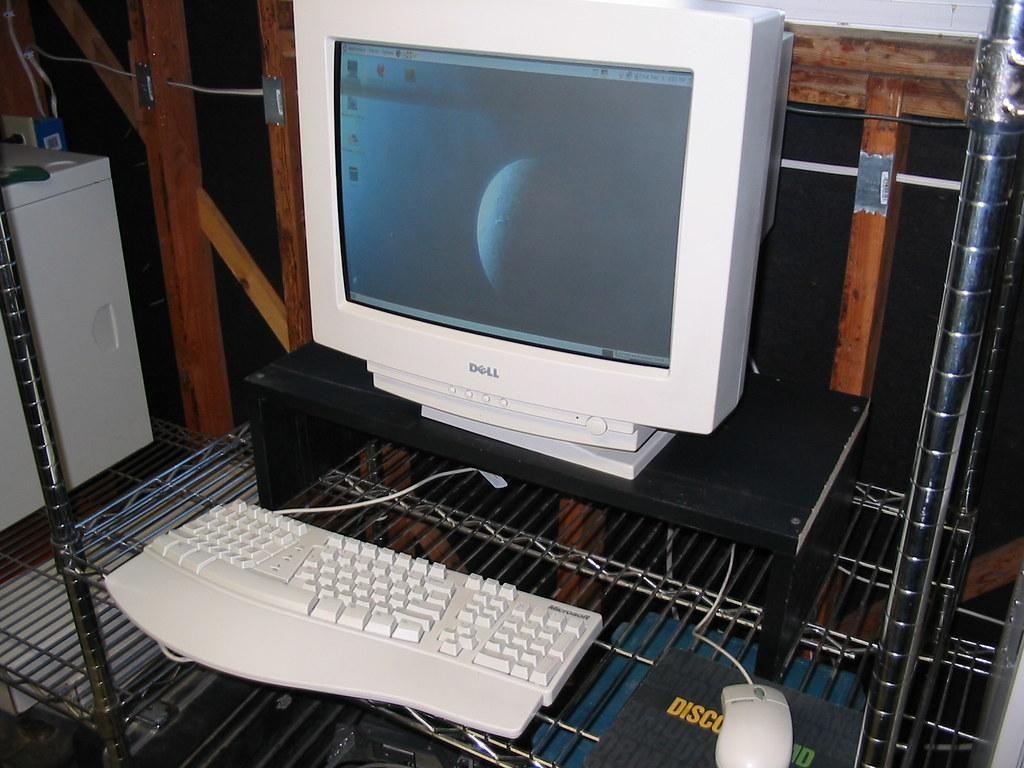computer: (291, 1, 792, 481)
